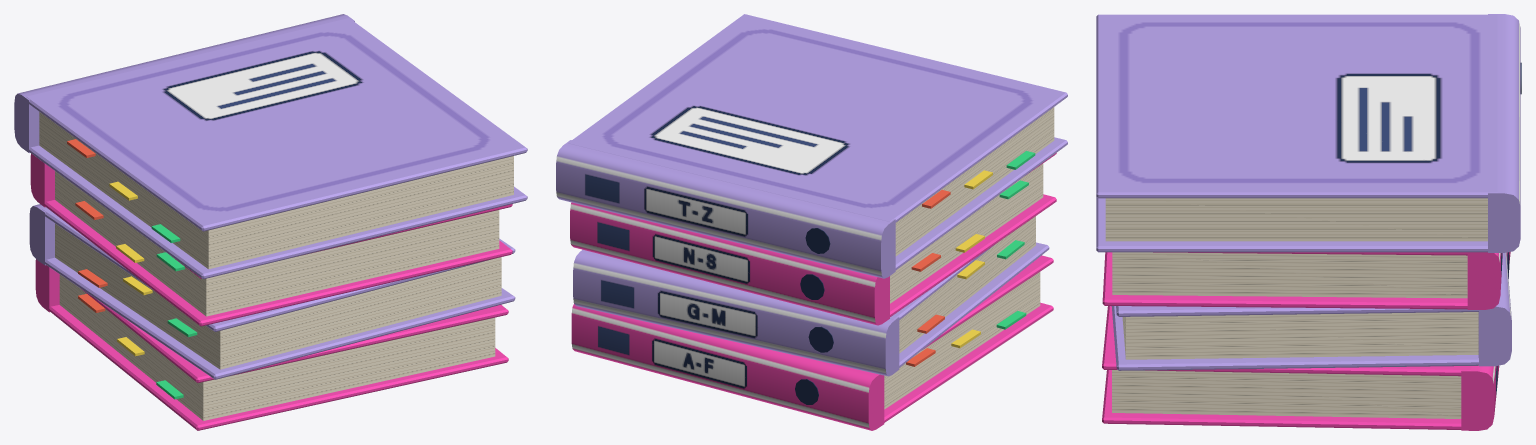
File: bureau_binder_stack.glb
3 views of the same model, side by side, from view 1: azimuth 30°, elevation 25°; view 2: azimuth 150°, elevation 25°; view 3: azimuth 270°, elevation 25° (orthographic). The views are drawn at different scales.
Visible parts, largest first — view 1: bureau_binder_stack; view 2: bureau_binder_stack; view 3: bureau_binder_stack.
Part boxes in pixels (x1,y1,x2,y2): bureau_binder_stack: (14, 14, 527, 430); bureau_binder_stack: (556, 14, 1067, 430); bureau_binder_stack: (1096, 14, 1521, 430).
Bounding box in the file's own units: 8 × 5 × 8.02.
Materials: 1 (1 with a texture image).
